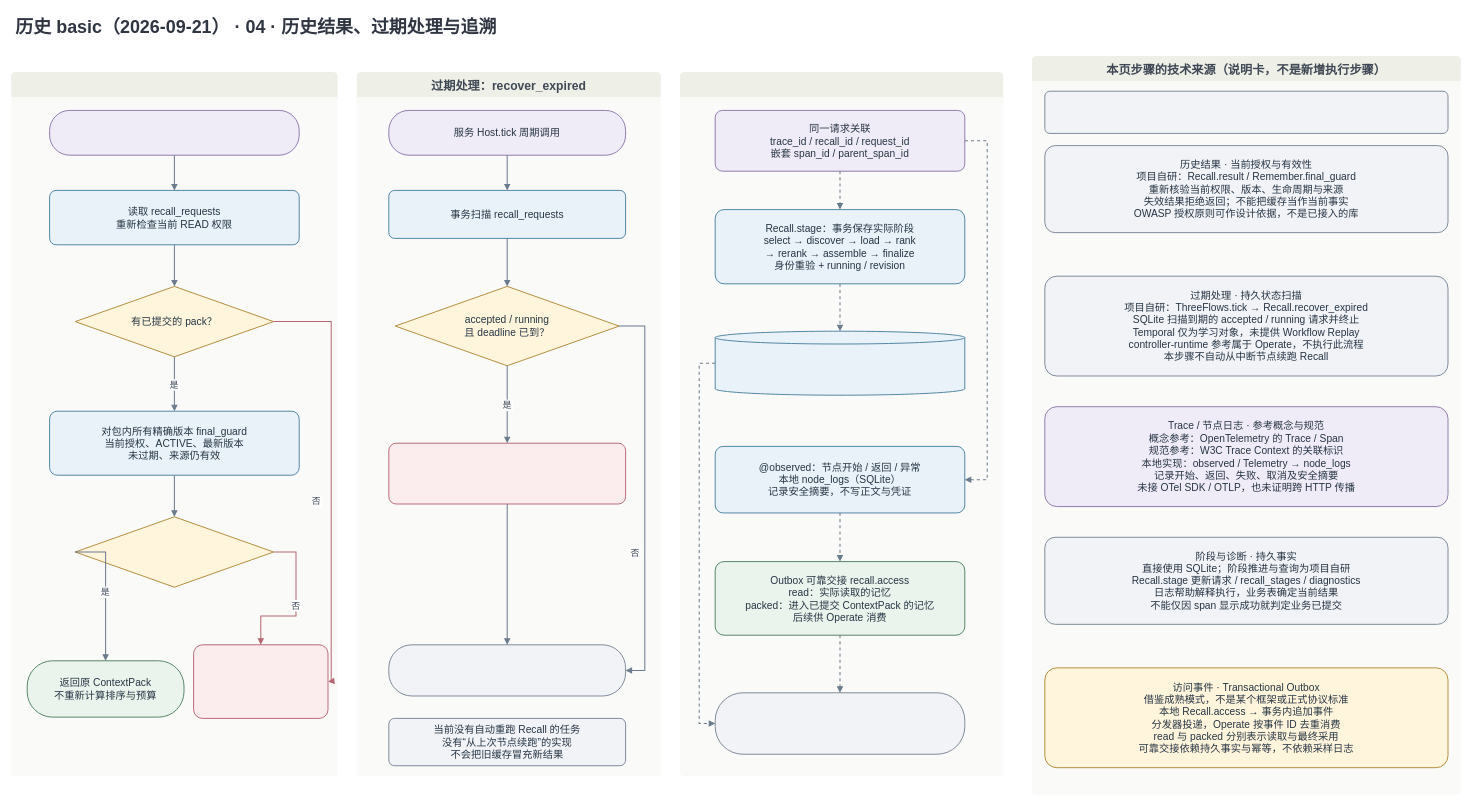
Image size: 1471x806. Some labels were removed from this diagram. Here are the shapes that lost their labels. From the top down, the box of each, then its label:
(1044, 90, 1448, 134): 绿色：直接调用（按配置） 紫色：设计 / 概念参考 黄色：成熟模式 灰色：项目自研 / 当前边界
(49, 110, 299, 155): 重复已完成请求 / 获取历史结果
(714, 330, 965, 395): recall_requests：请求状态与结果 recall_stages：阶段细节 diagnostics：关联诊断
(11, 72, 337, 776): 历史结果：Recall.result
(680, 72, 1003, 776): 阶段、日志与事件
(388, 442, 626, 504): 标记 failed reason = EXECUTION_INTERRUPTED revision + 1
(74, 516, 274, 587): 全部仍获准？
(193, 644, 328, 719): 拒绝返回 不存在 / 无权限 无已提交结果 原结果已失效
(388, 644, 626, 696): 继续扫描 / 返回处理数量
(714, 692, 965, 754): 授权后按 trace_id 关联查询 技术日志辅助诊断 恢复依据仍是持久业务事实
